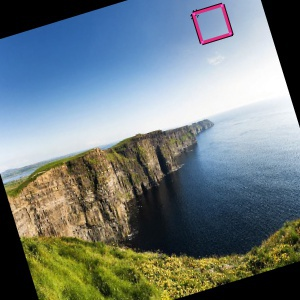square: (189, 2, 237, 47)
